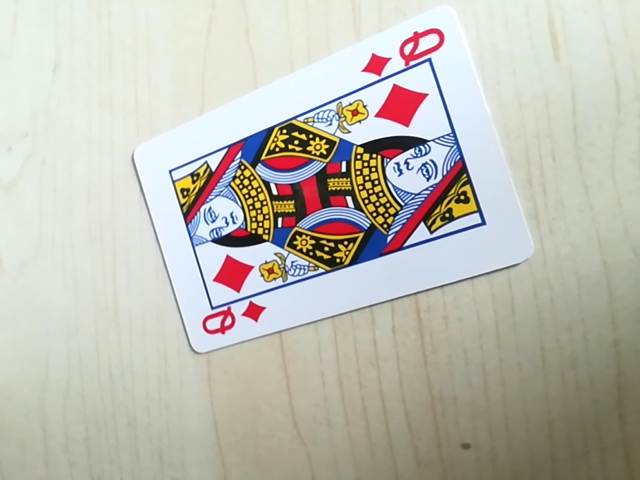fk q: (360, 22, 455, 80), (196, 295, 270, 344)
